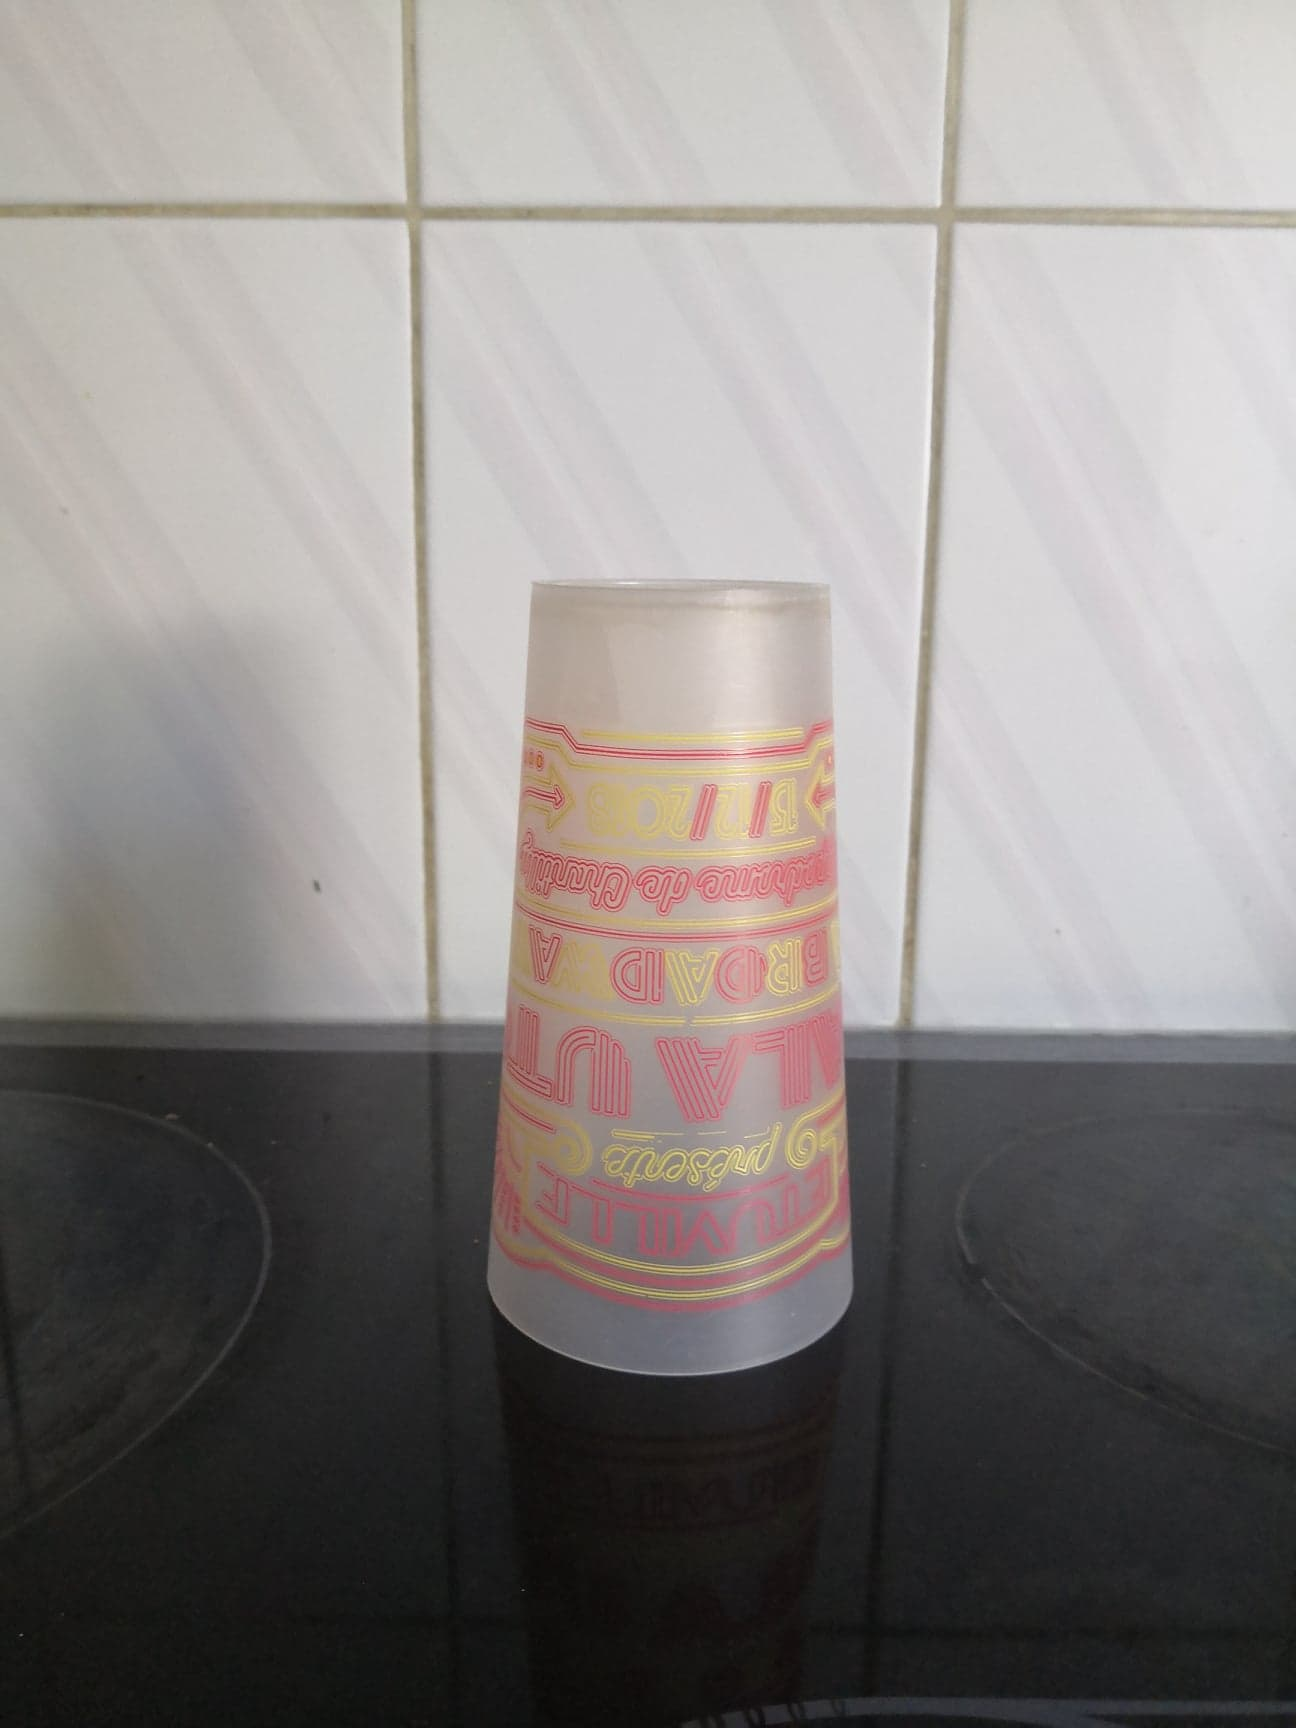ecocup: (486, 571, 855, 1373)
